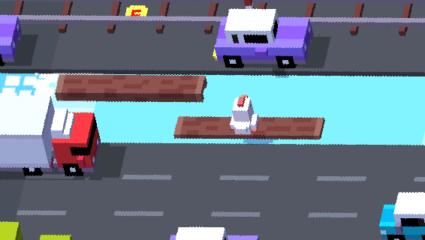hen: (231, 95, 259, 135)
obstacle: (0, 96, 101, 176), (216, 8, 309, 68), (396, 192, 425, 240), (168, 227, 266, 240), (0, 14, 19, 66), (380, 202, 396, 238), (0, 222, 19, 240), (41, 235, 73, 240)
timber: (55, 74, 207, 101), (174, 116, 325, 139)
